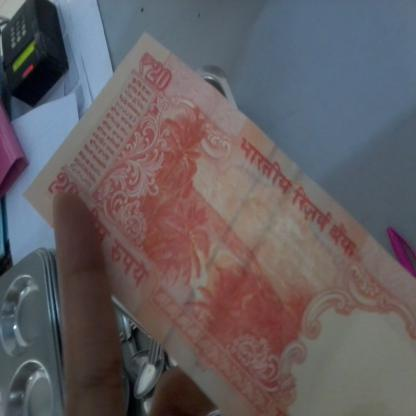Old20Back: (22, 28, 415, 415)
